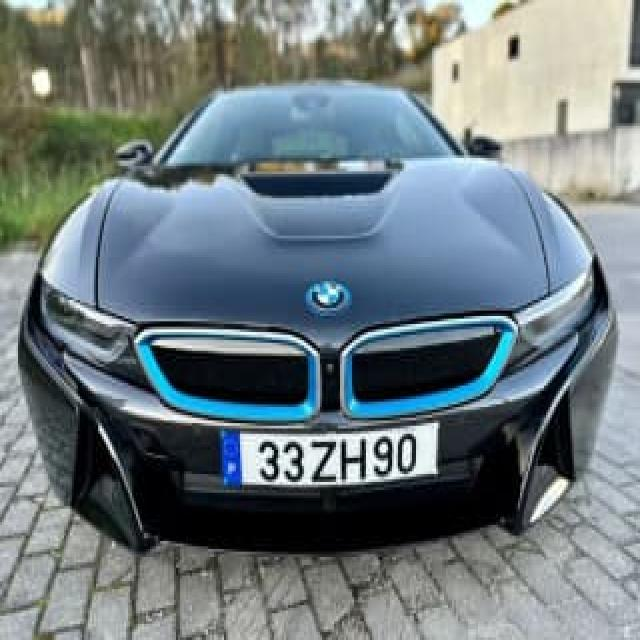portuguese-license-plates: (222, 427, 438, 481)
